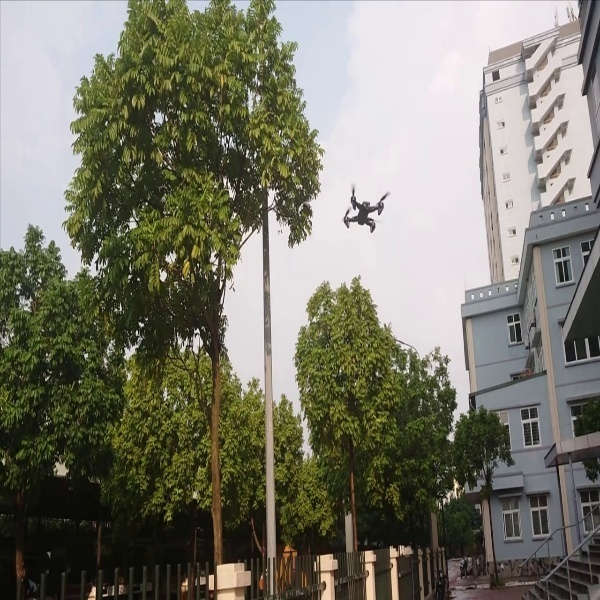drone: (336, 179, 391, 240)
